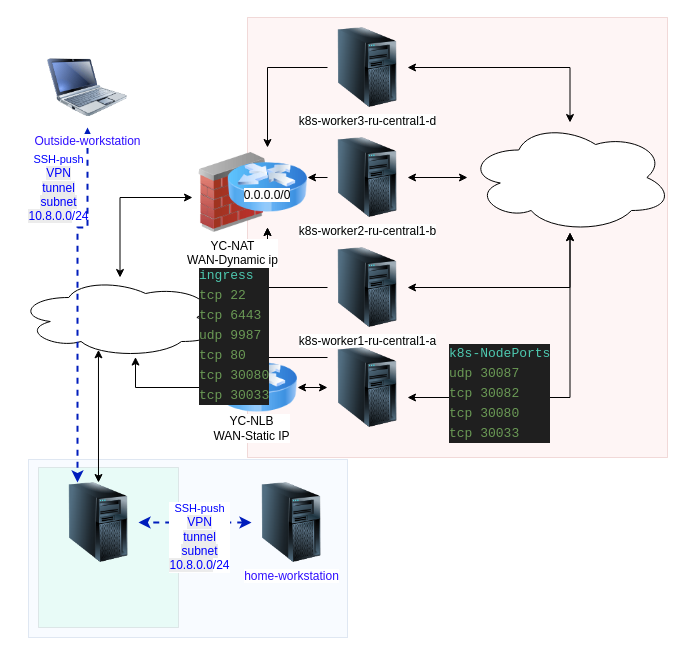
This 690x655 diagram has some shape labels left out. Here are the shapes that lost their labels. From the top down, the centre of each, then its label:
At (x=569, y=177): "LOCAL 10.10.10.0/26".
At (x=119, y=317): "WAN".
At (x=367, y=387): "k8s-Master-ru-central1-a".
At (x=98, y=522): "Self-hosted Git server Action Runner Container Registry".
